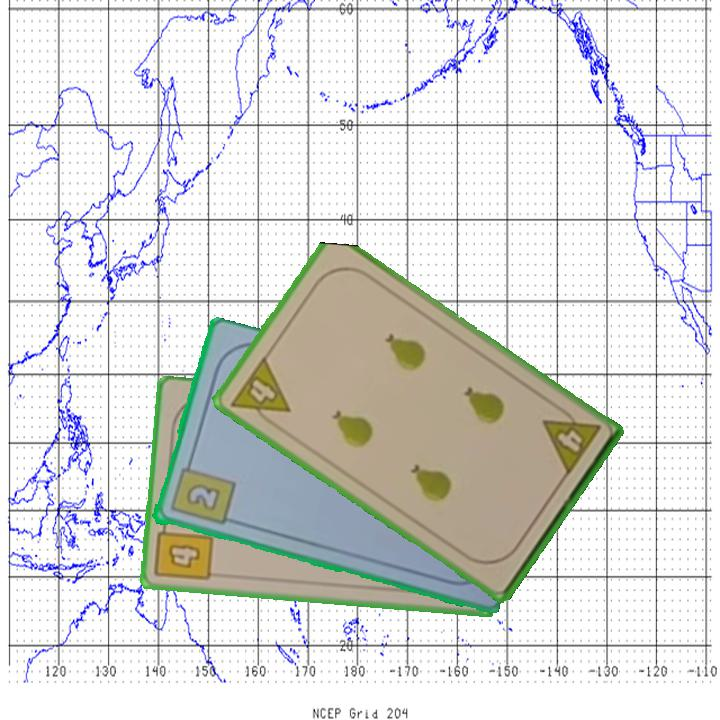2b: (166, 456, 237, 528)
4b: (151, 517, 216, 585)
4p: (226, 352, 293, 432), (539, 401, 603, 479)
